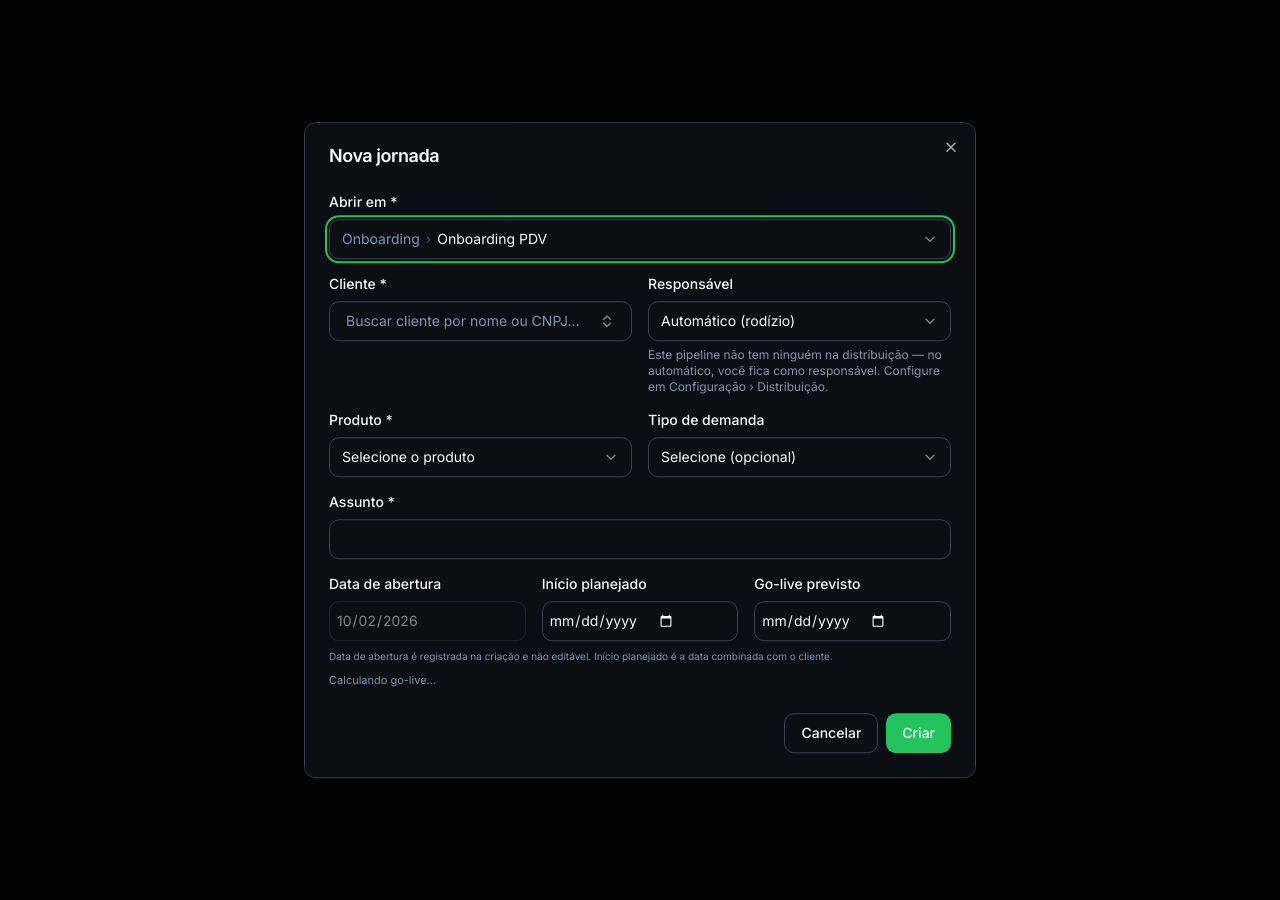
NewJourneyModal — produto preenchido pelo cliente (DEM-0324) › preenche o produto sozinho quando o cliente tem um só
Click the dropdown labelled "Buscar cliente por nome ou CNPJ..." at (480,321), box [329,301,632,341]
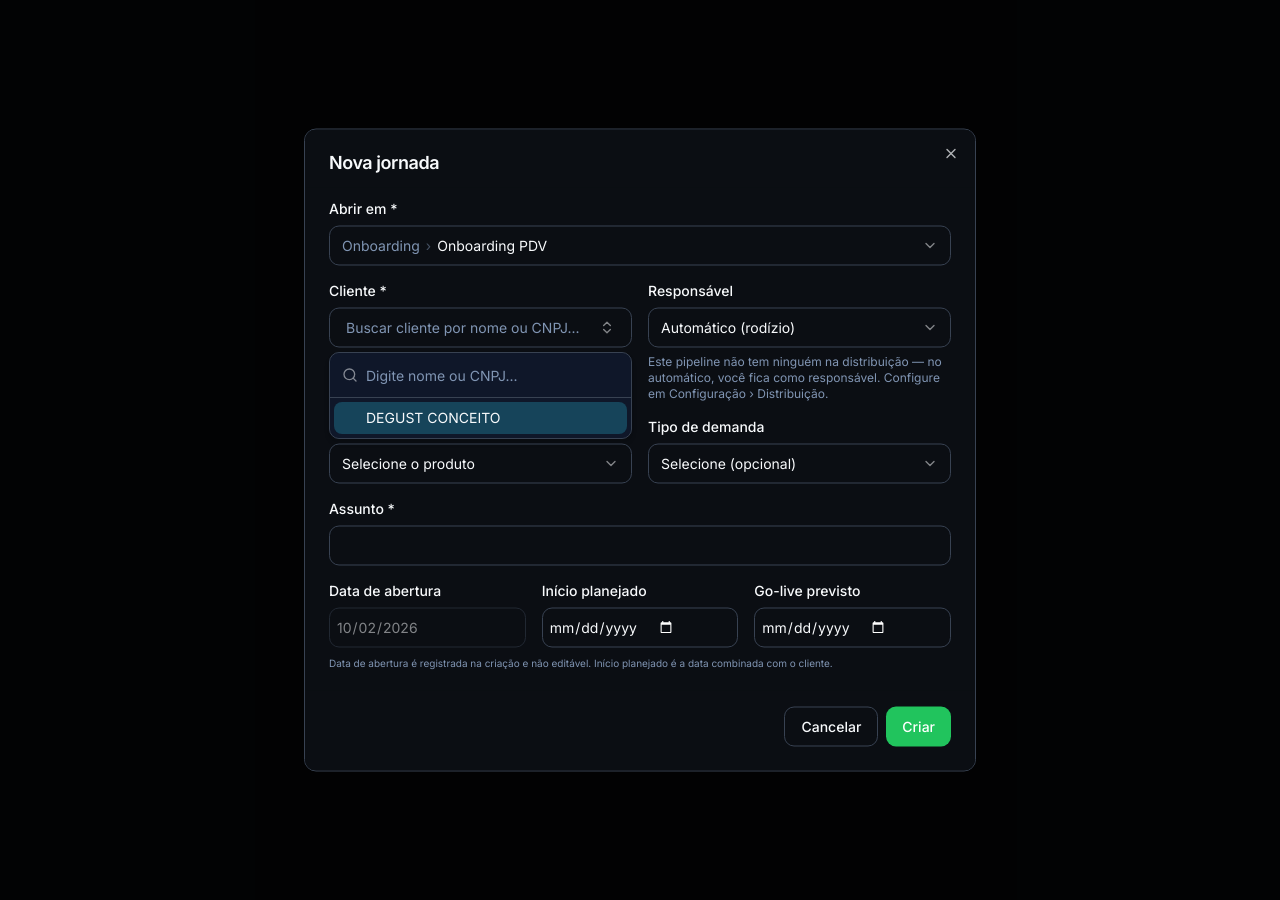
Click the option "DEGUST CONCEITO" at (480,418), box [334,402,627,434]
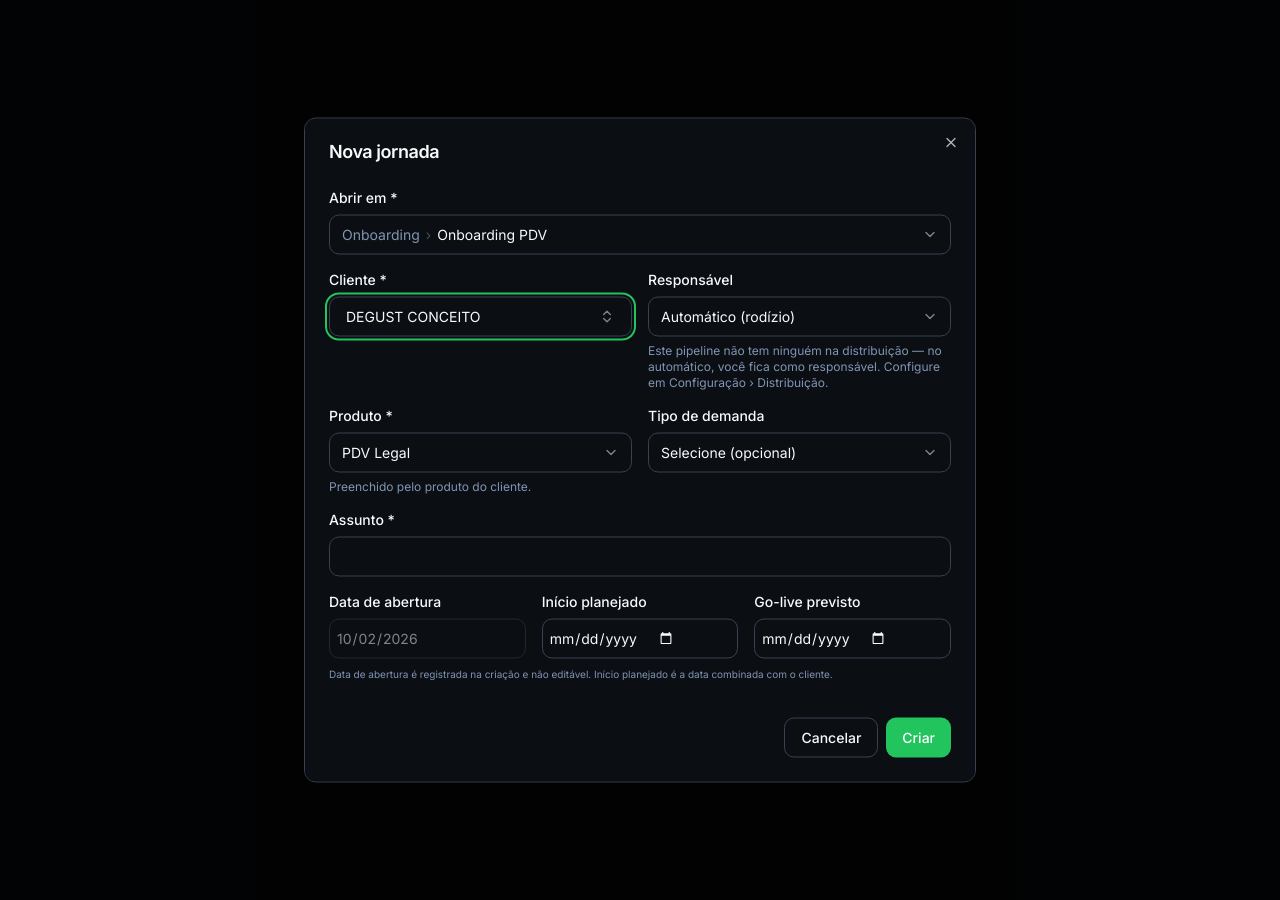
Expected: the dropdown labelled "PDV Legal" is shown, [329,432,632,472]
Expected: the text "Preenchido pelo produto do cliente" is shown, [329,478,531,494]
